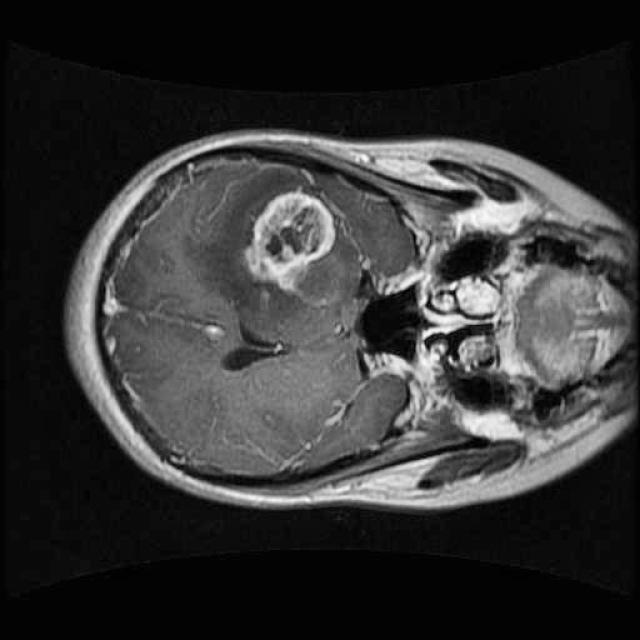Non-Tumor: (236, 179, 346, 302)
